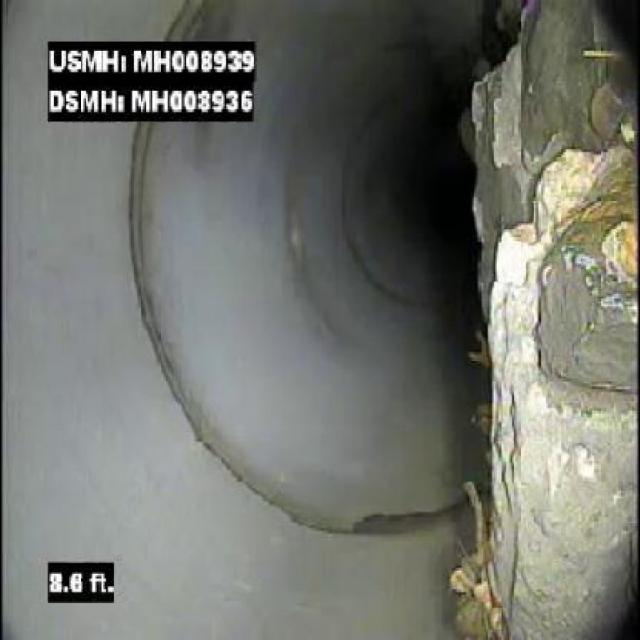Obstacle: (348, 0, 638, 629)
